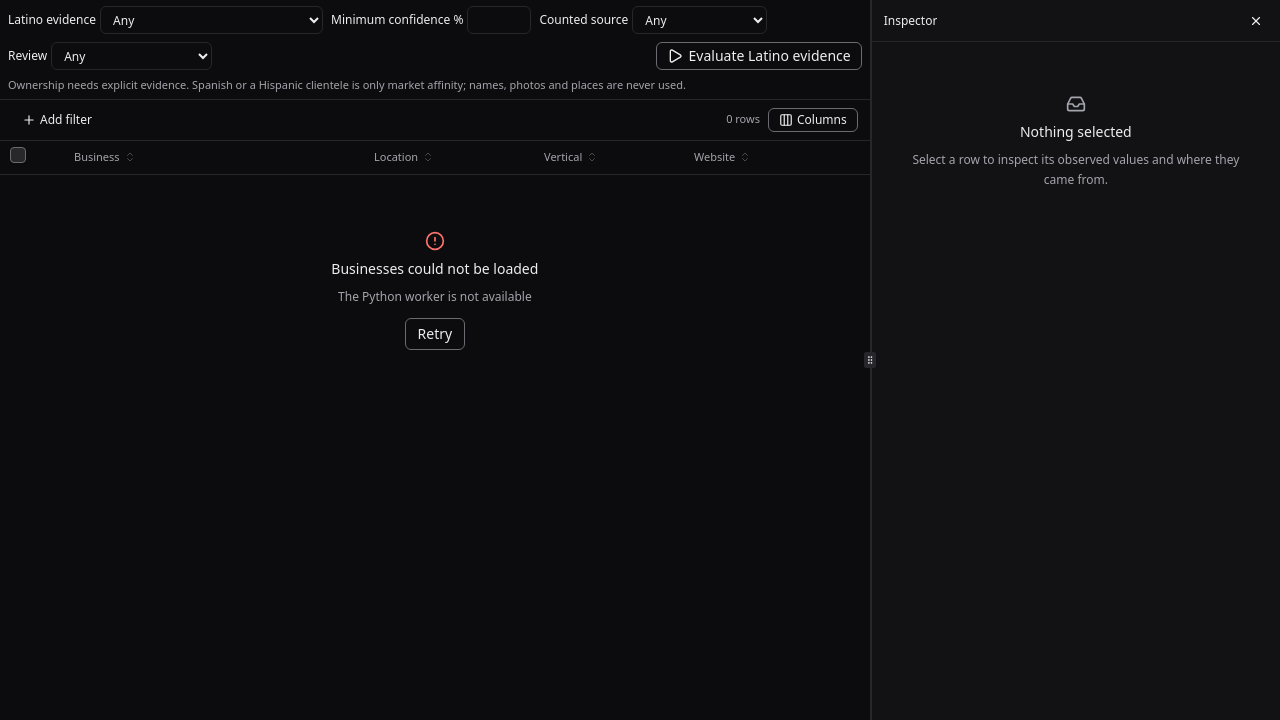
BusinessesScreen › explains a failed load and retries on demand
Check: the message shows "Businesses could not be loaded", box [331,259,538,278]
Check: the message shows "not available", box [338,288,532,305]
Click the button "Retry" at coordinates (435, 334), box [405,318,465,350]
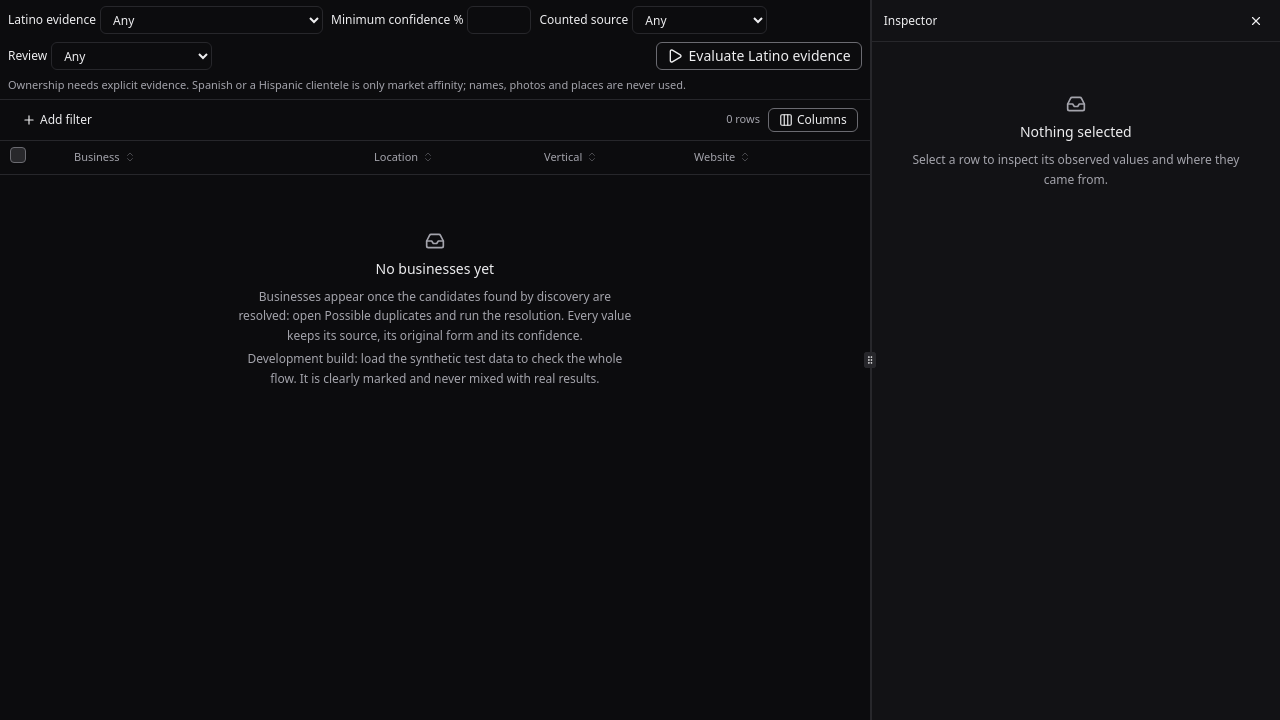
Check: the text "No businesses yet" is shown, box [376,259,494,279]
